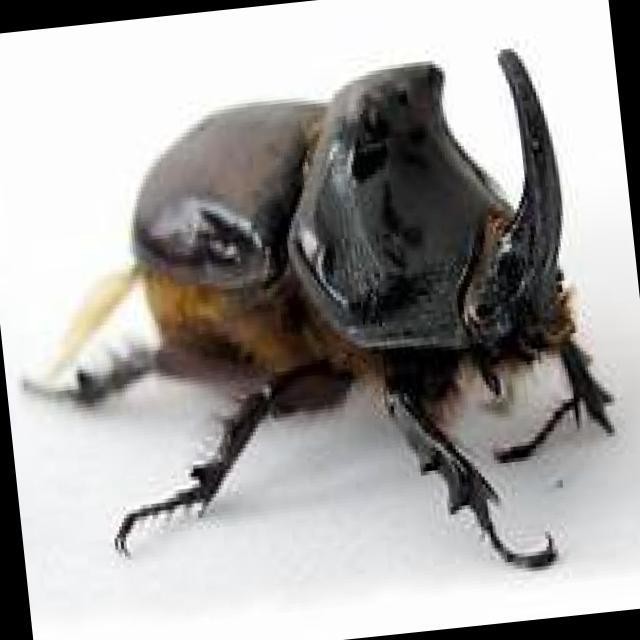Rhino-beetle: (61, 31, 599, 590)
